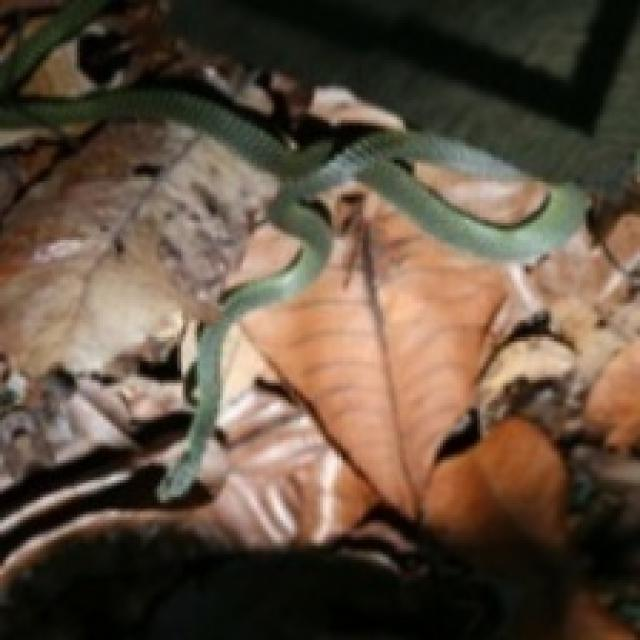paradise tree snake: (0, 4, 584, 501)
